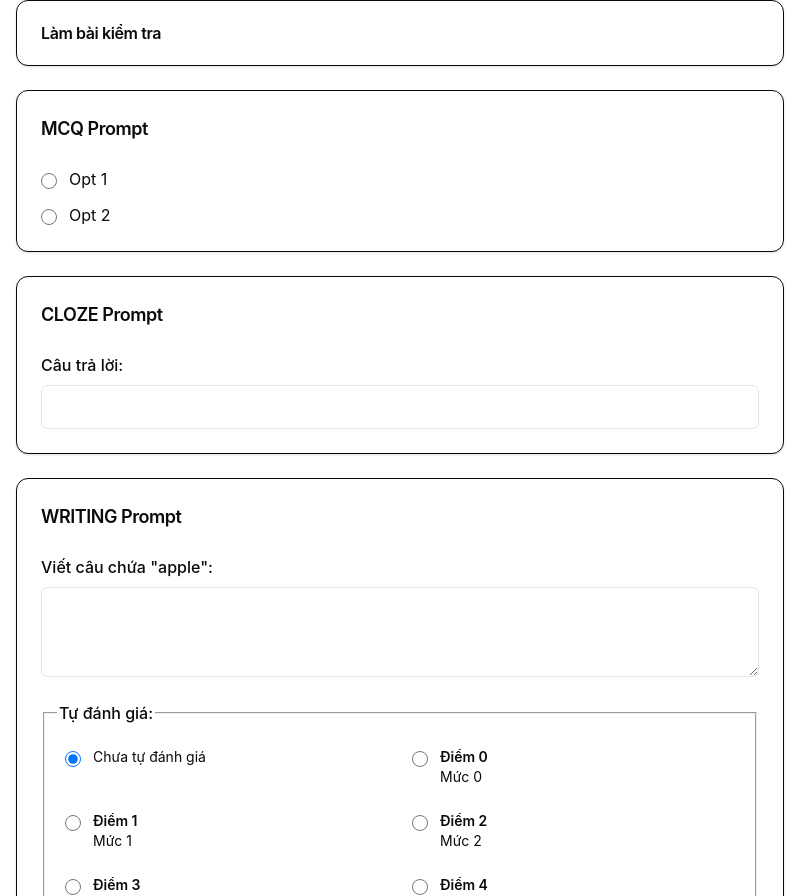
Test: T050 QuizRunner › sends a PUT at 500ms, not before; blur flushes immediately
Check: the text "CLOZE Prompt" is shown, box top-left (41, 304), bottom-right (163, 325)
Type "first" into the field labelled "Câu trả lời:" at (400, 407), box top-left (41, 385), bottom-right (759, 429)
Wait 500 ms
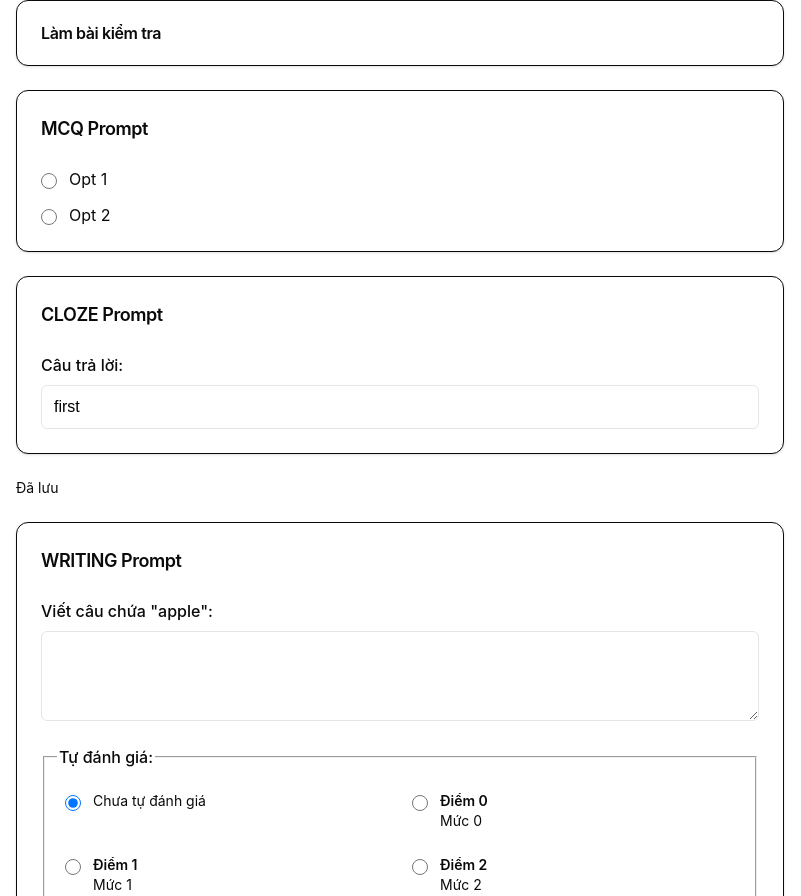
Check: the text "Đã lưu" is shown, box top-left (16, 479), bottom-right (58, 496)
Replace the text in the field labelled "Câu trả lời:" with "second" at (400, 407), box top-left (41, 385), bottom-right (759, 429)
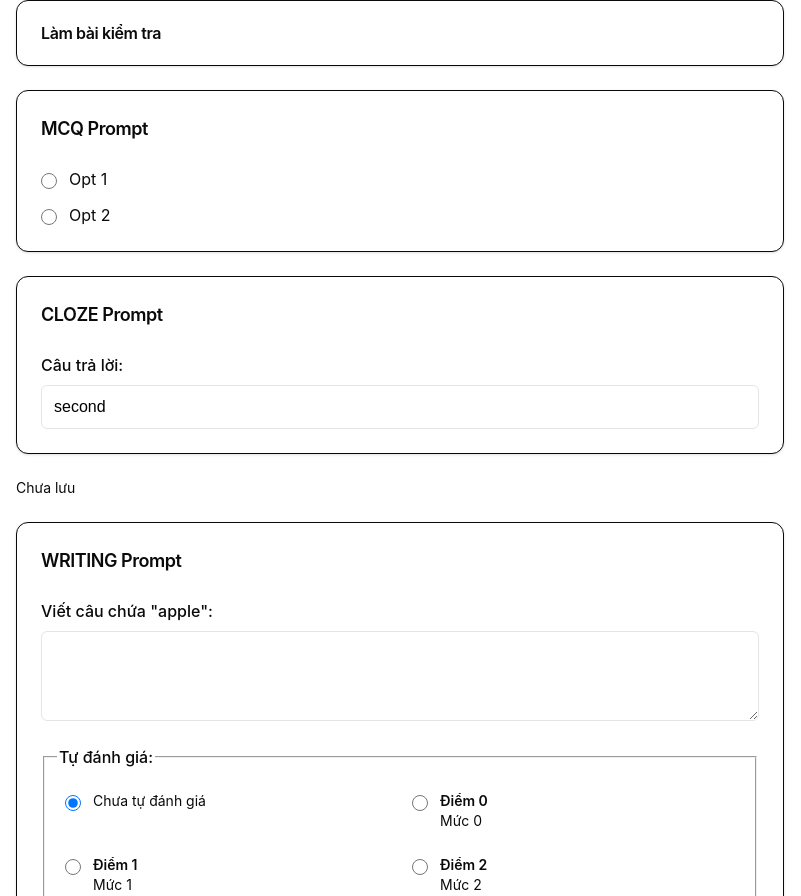
Leave the field labelled "Câu trả lời:", box top-left (41, 385), bottom-right (759, 429)
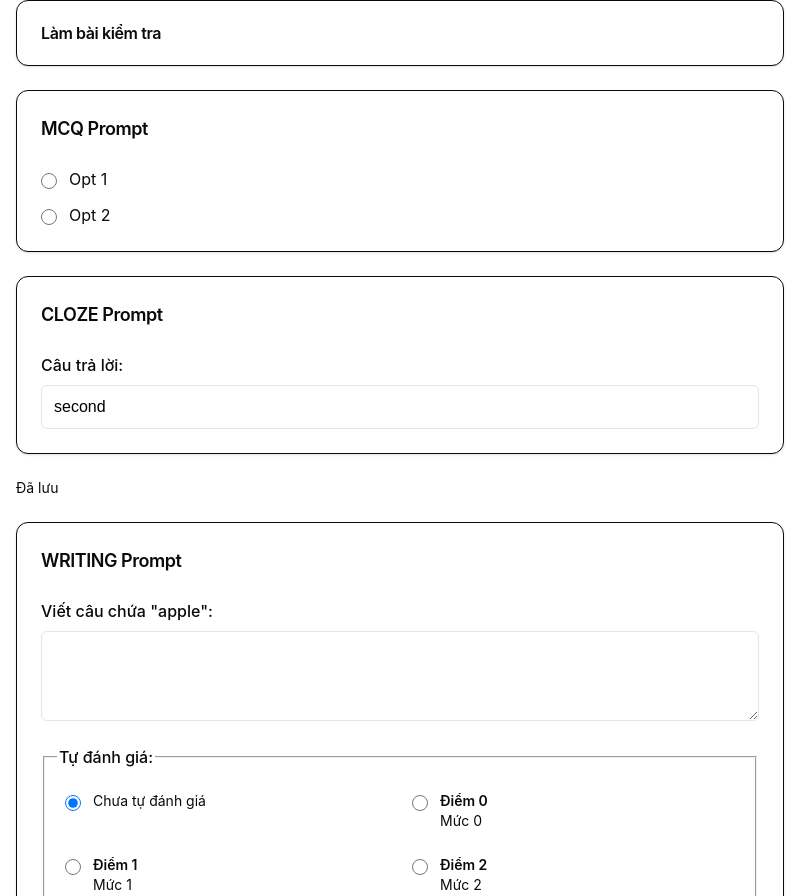
Check: the text "Đã lưu" is shown, box top-left (16, 479), bottom-right (58, 496)
